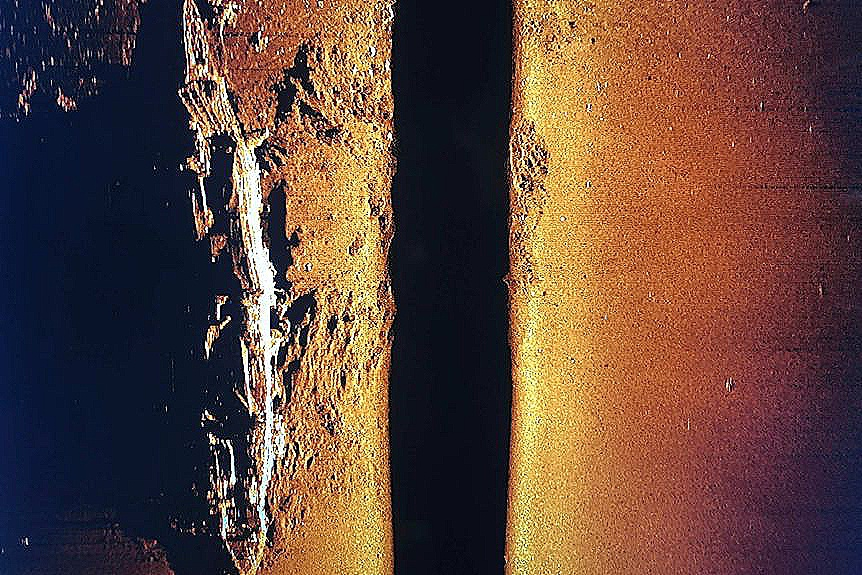ship: (177, 1, 292, 573)
